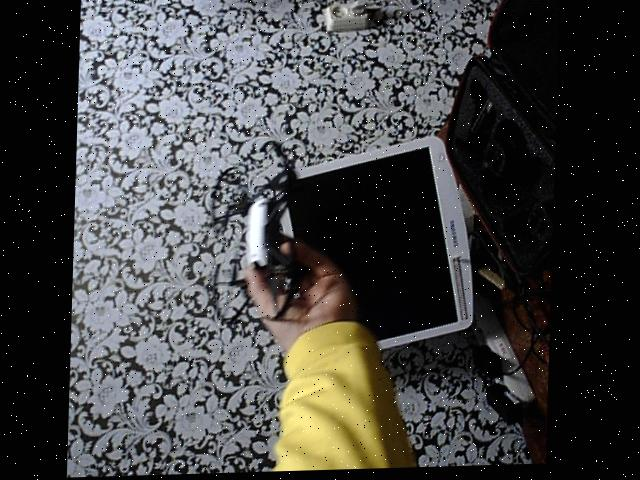drone: (197, 132, 318, 336)
